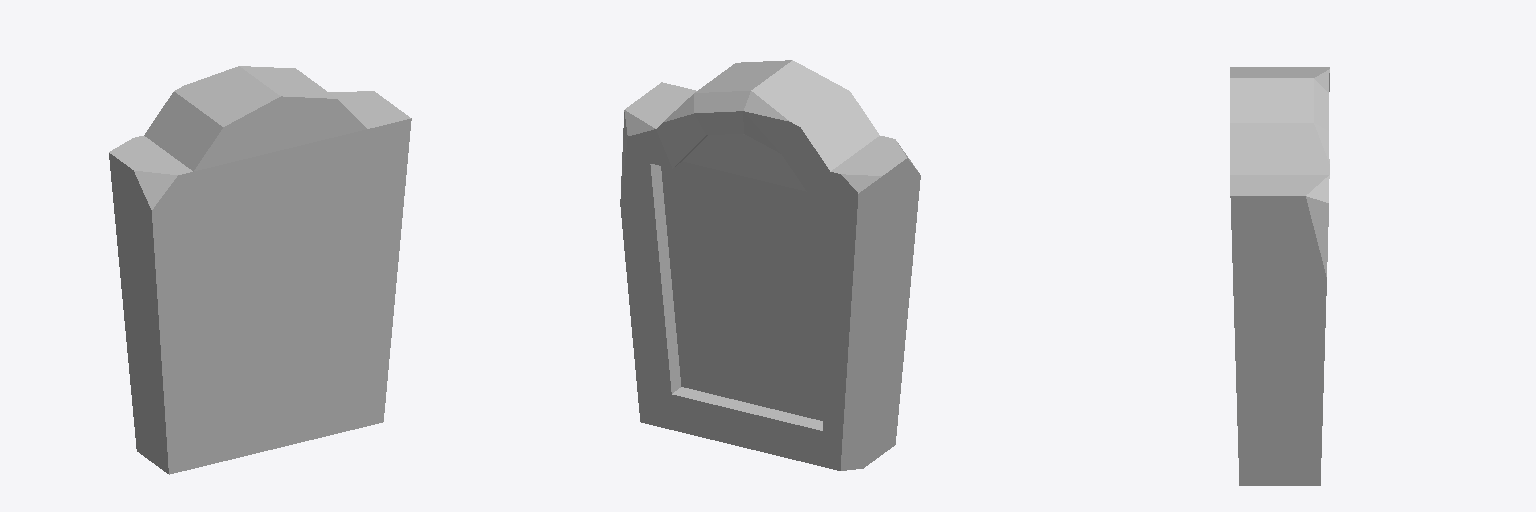
File: graveHigh.obj
The picture shows the model from 3 angles: view 1: azimuth 30°, elevation 25°; view 2: azimuth 150°, elevation 25°; view 3: azimuth 270°, elevation 25°; orthographic projection.
Visible parts, largest first — view 1: GraveLow; view 2: GraveLow; view 3: GraveLow.
Part boxes in pixels (left/top/right/bottom): GraveLow: left=109, top=66, right=411, bottom=474; GraveLow: left=620, top=60, right=920, bottom=470; GraveLow: left=1230, top=67, right=1329, bottom=485.
Size of the model in its own units: 1.68 by 2.18 by 0.5505.